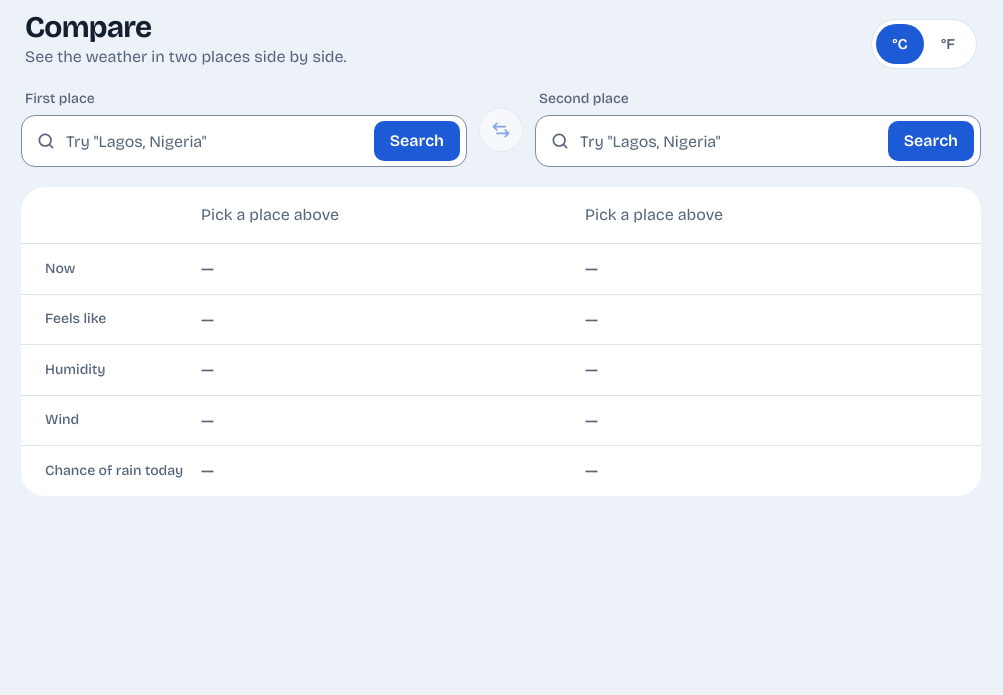
Test: Compare page › clears one side without touching the other
In the dropdown named "First place": point(215, 141) [60,116,370,166], type "Lagos"
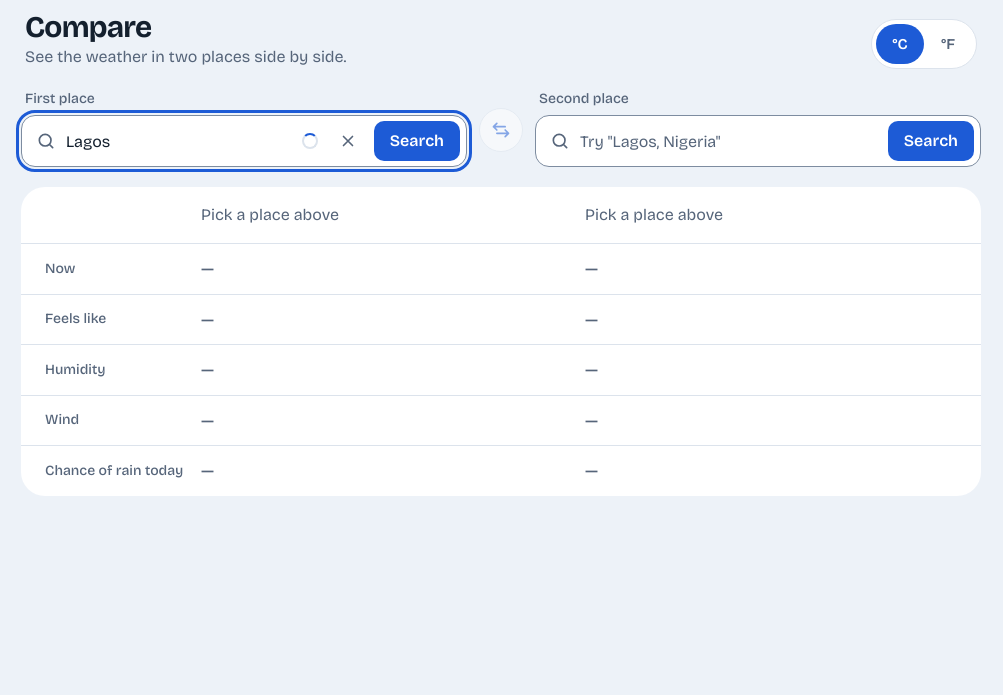
Click the 1st button "Search": point(417, 141) [374,121,460,161]
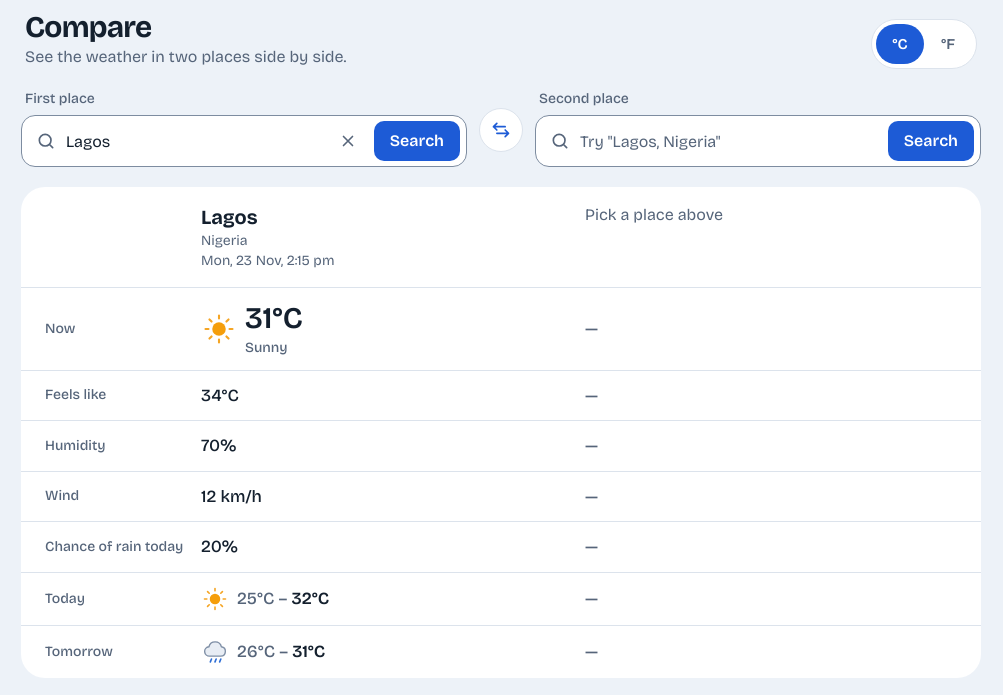
In the dropdown named "Second place": point(729, 141) [574,116,884,166], type "Accra"
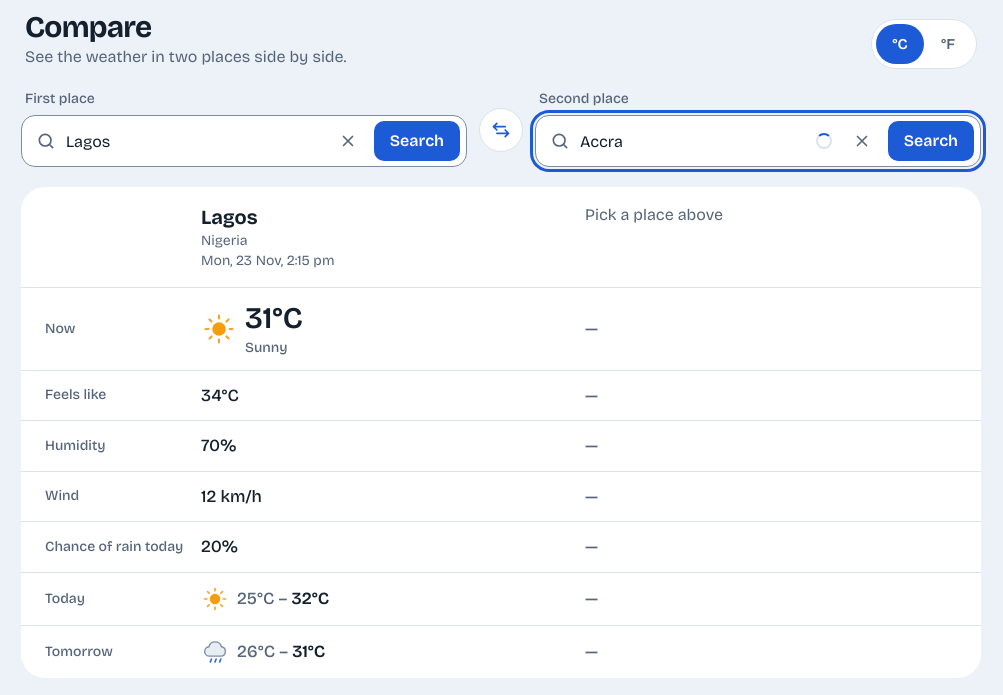
Click the button "Search" below "Second place": point(931, 141) [888,121,974,161]
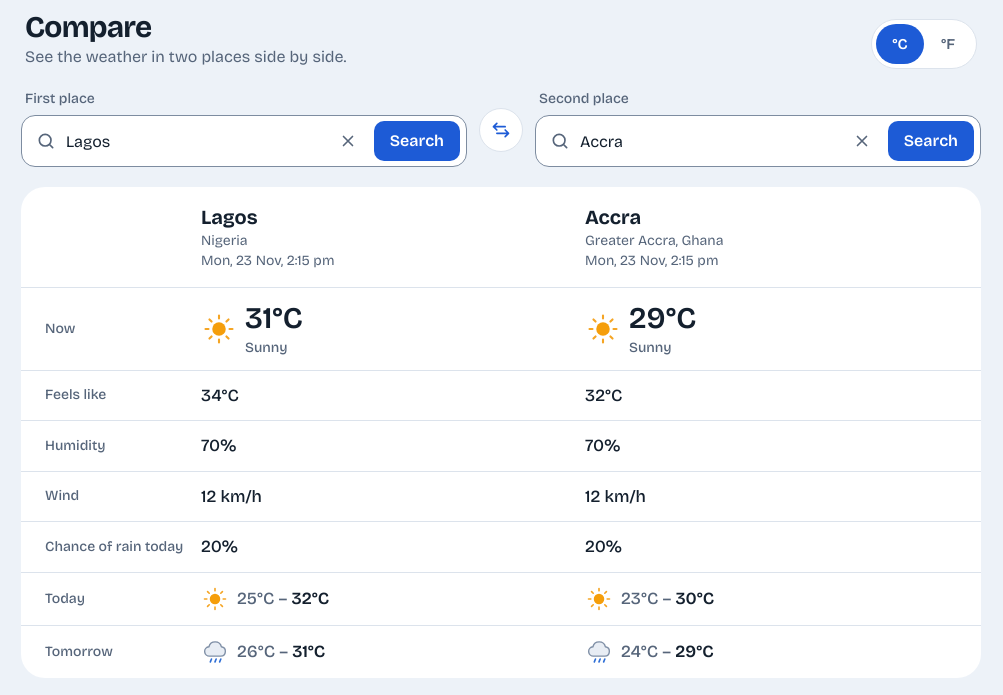
Expected: the text "Accra" is shown, [585,205,641,229]
Click the button named "Clear search" below "First place": point(348, 141) [326,121,370,161]
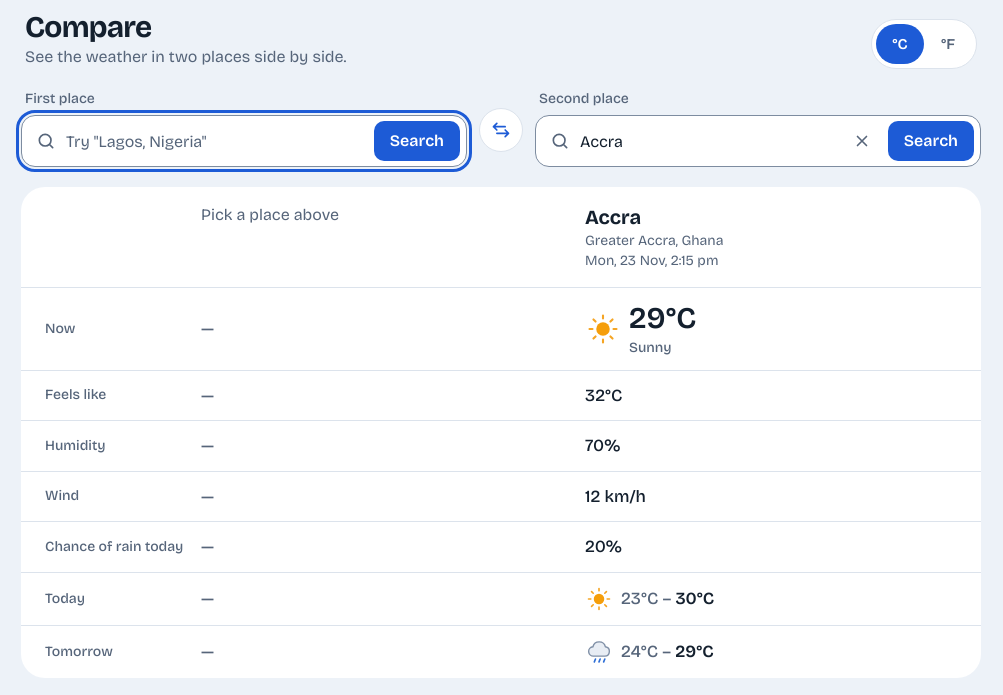
Expected: the column heading "Accra Greater Accra, Ghana Mon, 23 Nov, 2:15 pm" is shown, [584,204,724,269]
Expected: the column heading "Pick a place above" is shown, [200,204,339,224]
